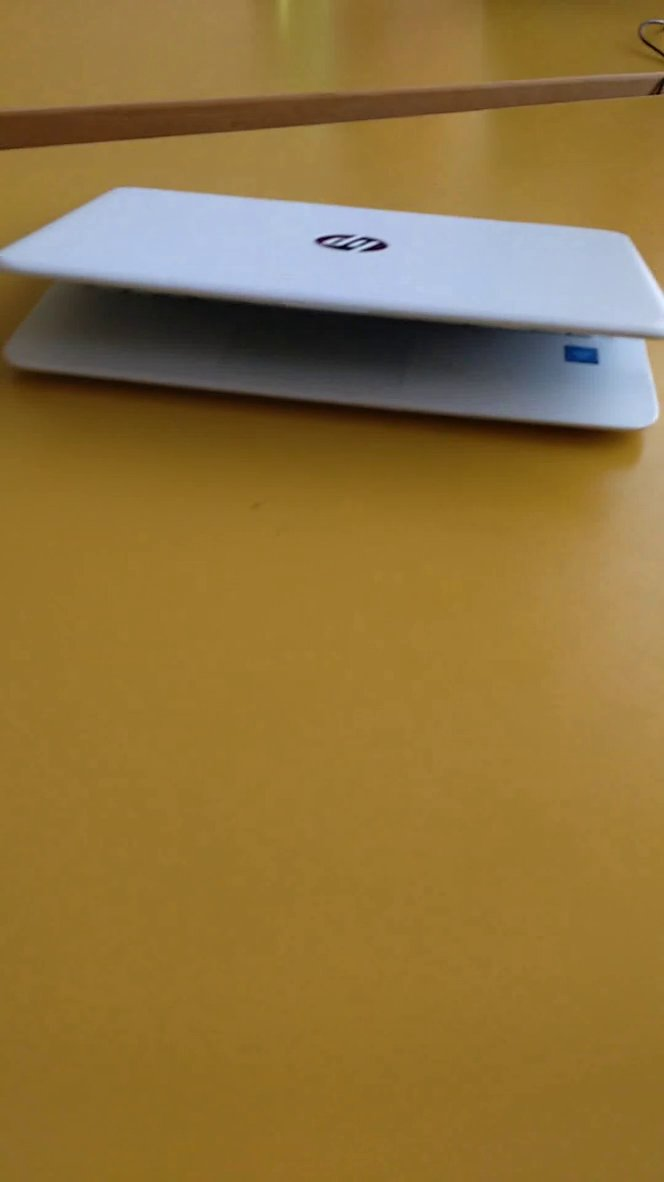laptop: (1, 161, 664, 448)
